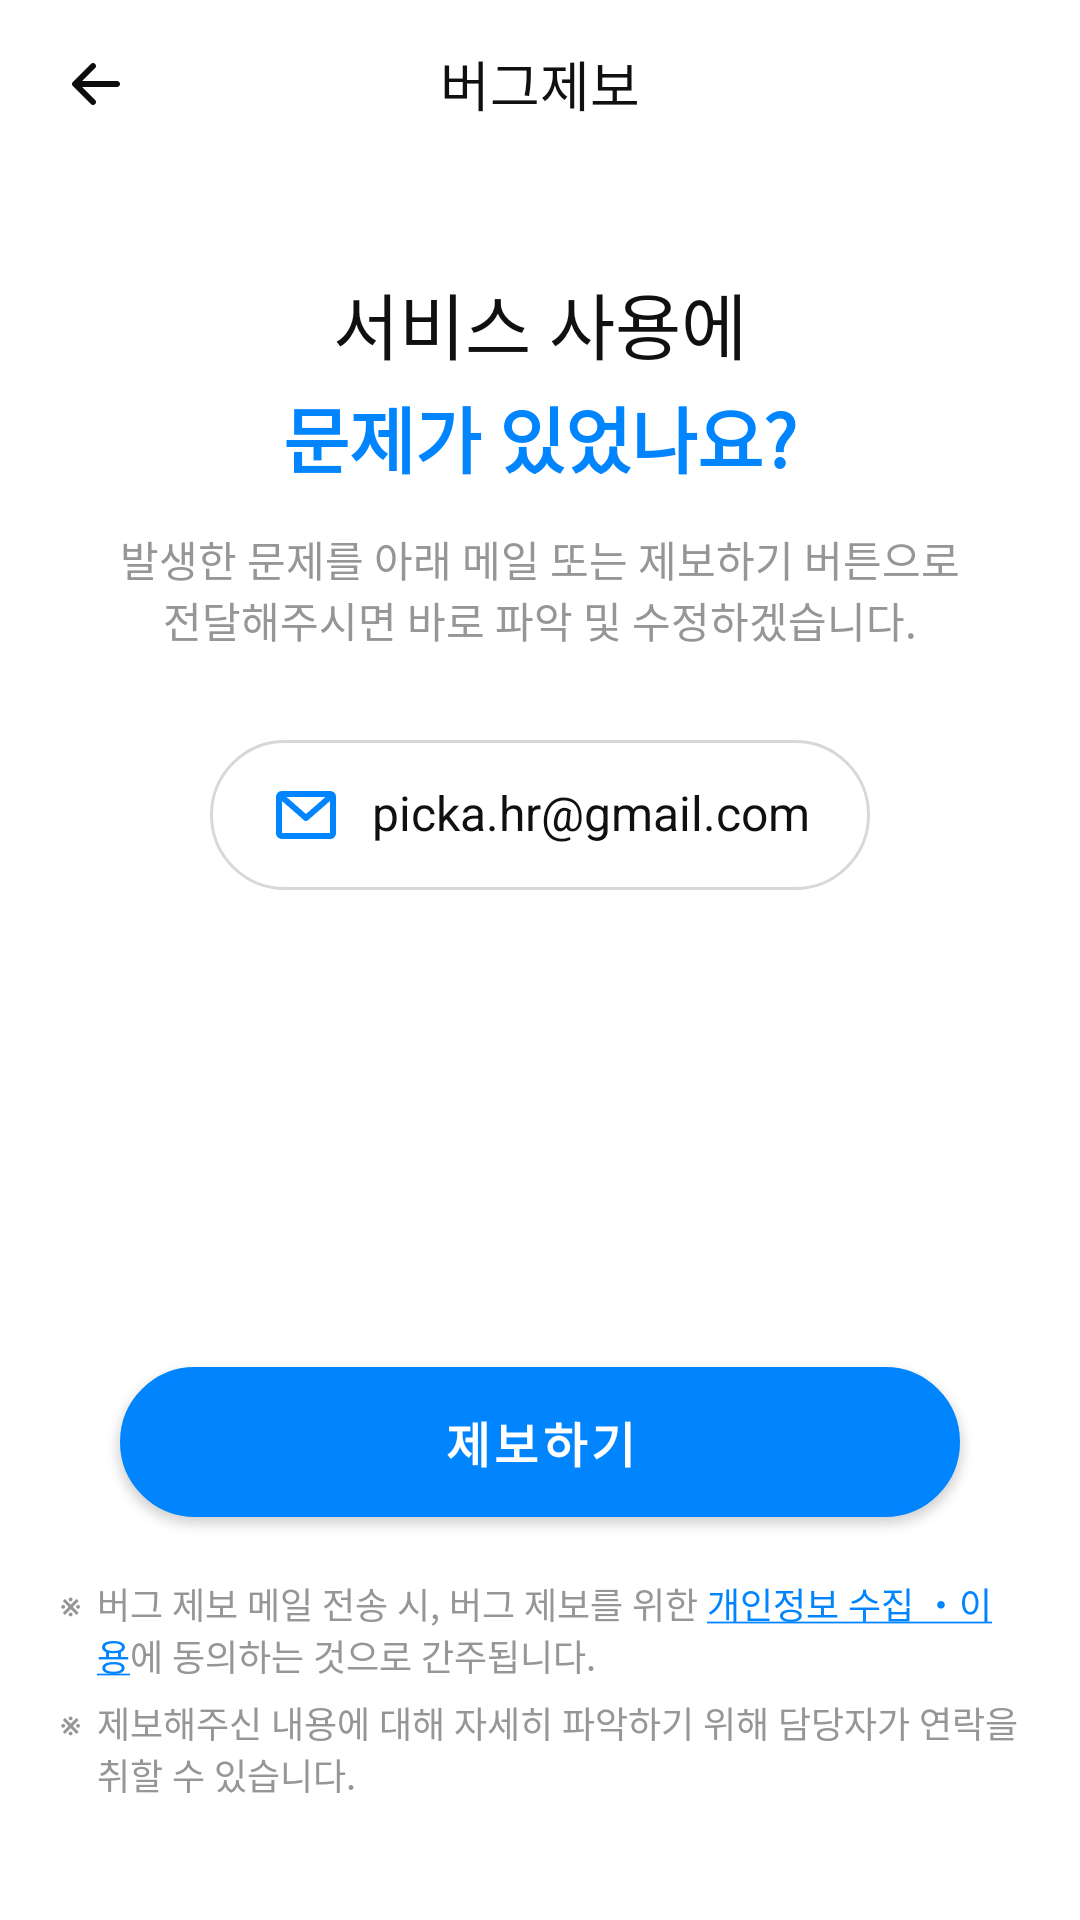

Named icons in this screenshot (1080 × 1920) and their bounding boxes, (x1, y1, x2, y2):
arrow left: (72, 63, 120, 105)
